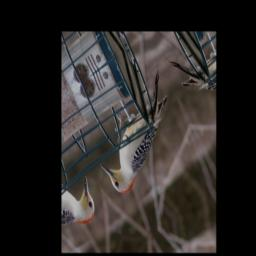Woodpecker: (82, 69, 192, 204)
